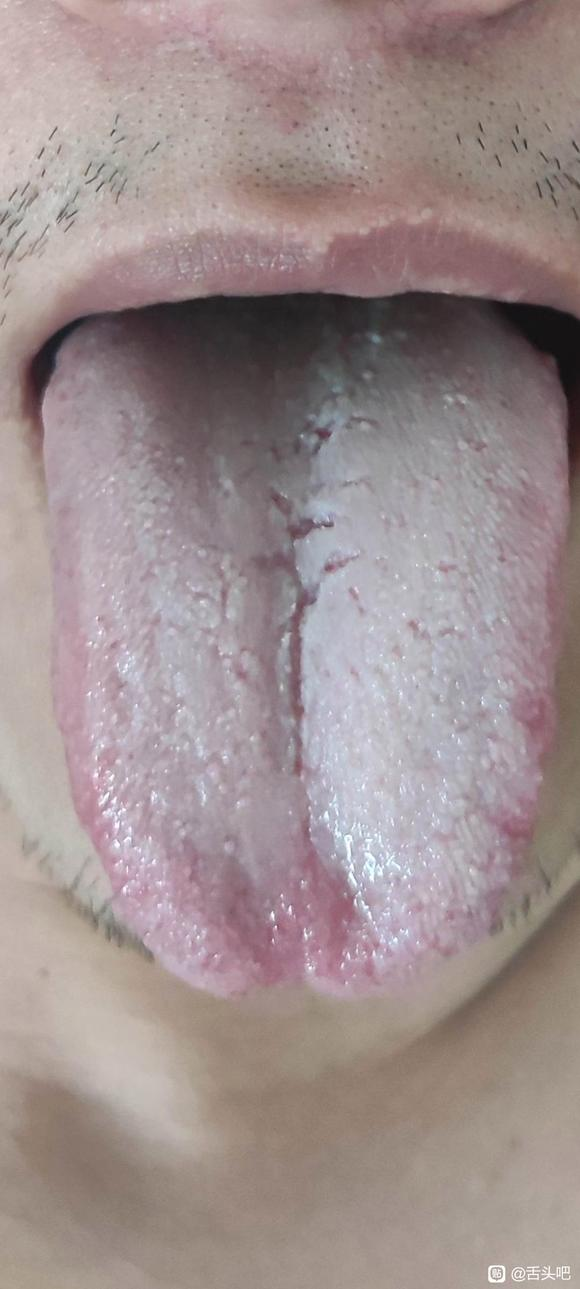baitaishe: (42, 293, 568, 998)
liewenshe: (245, 418, 357, 779)
xinfeiao: (216, 940, 358, 998)
